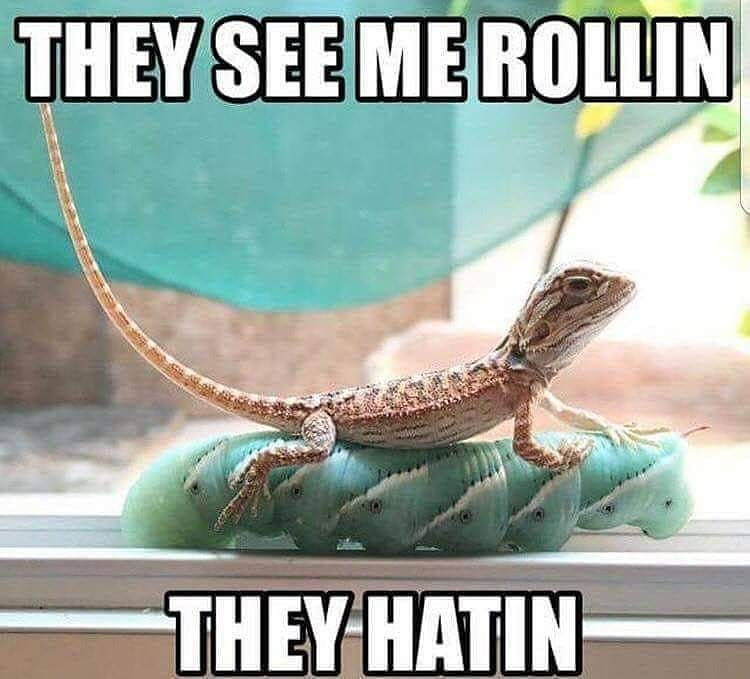bearded: (41, 104, 637, 539)
